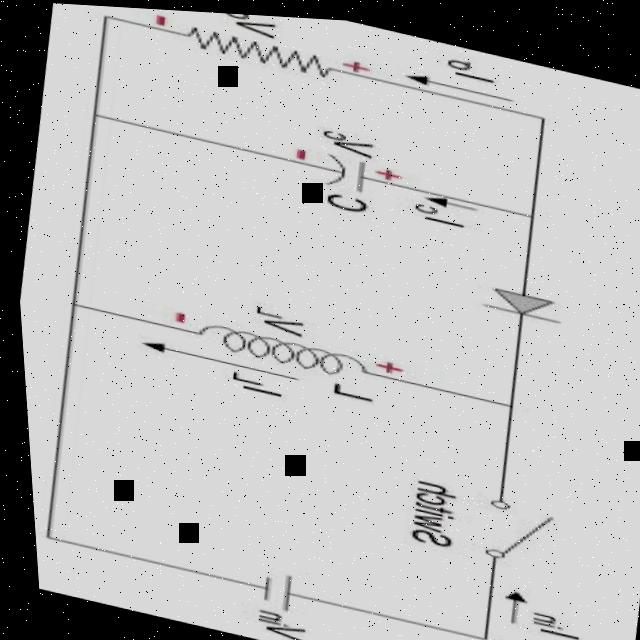capacitor: (293, 138, 408, 204)
diode: (464, 260, 568, 333)
inductor: (167, 302, 393, 395)
resistor: (162, 8, 350, 90)
source: (210, 549, 326, 621)
switch: (446, 464, 552, 574)
